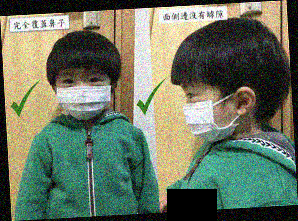with_mask: (182, 81, 240, 145), (55, 70, 113, 122)
